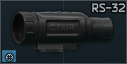FLIR RS-32 2.25-9x 35mm 60Hz thermal riflescope: (0, 0, 127, 64)
